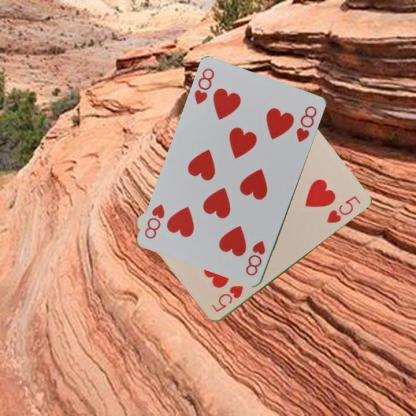5h: (209, 283, 245, 314)
8h: (192, 66, 216, 106), (244, 238, 266, 278)
